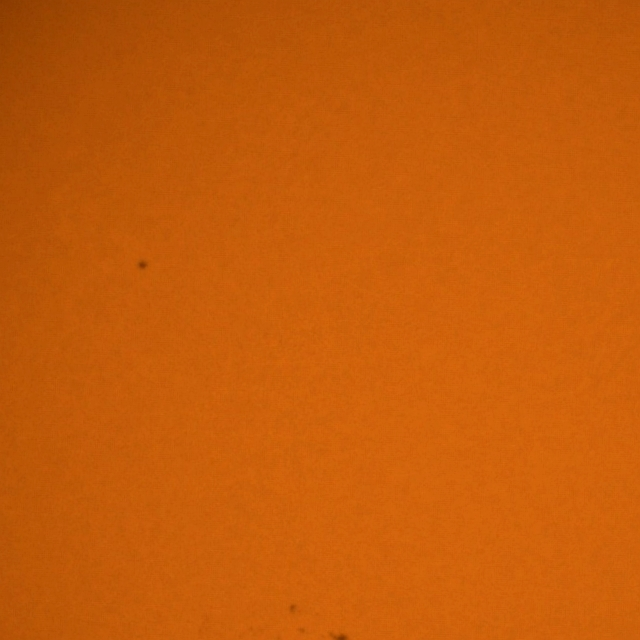sunspot: (318, 630, 349, 640), (288, 602, 303, 618), (136, 259, 149, 272), (296, 625, 307, 636)
